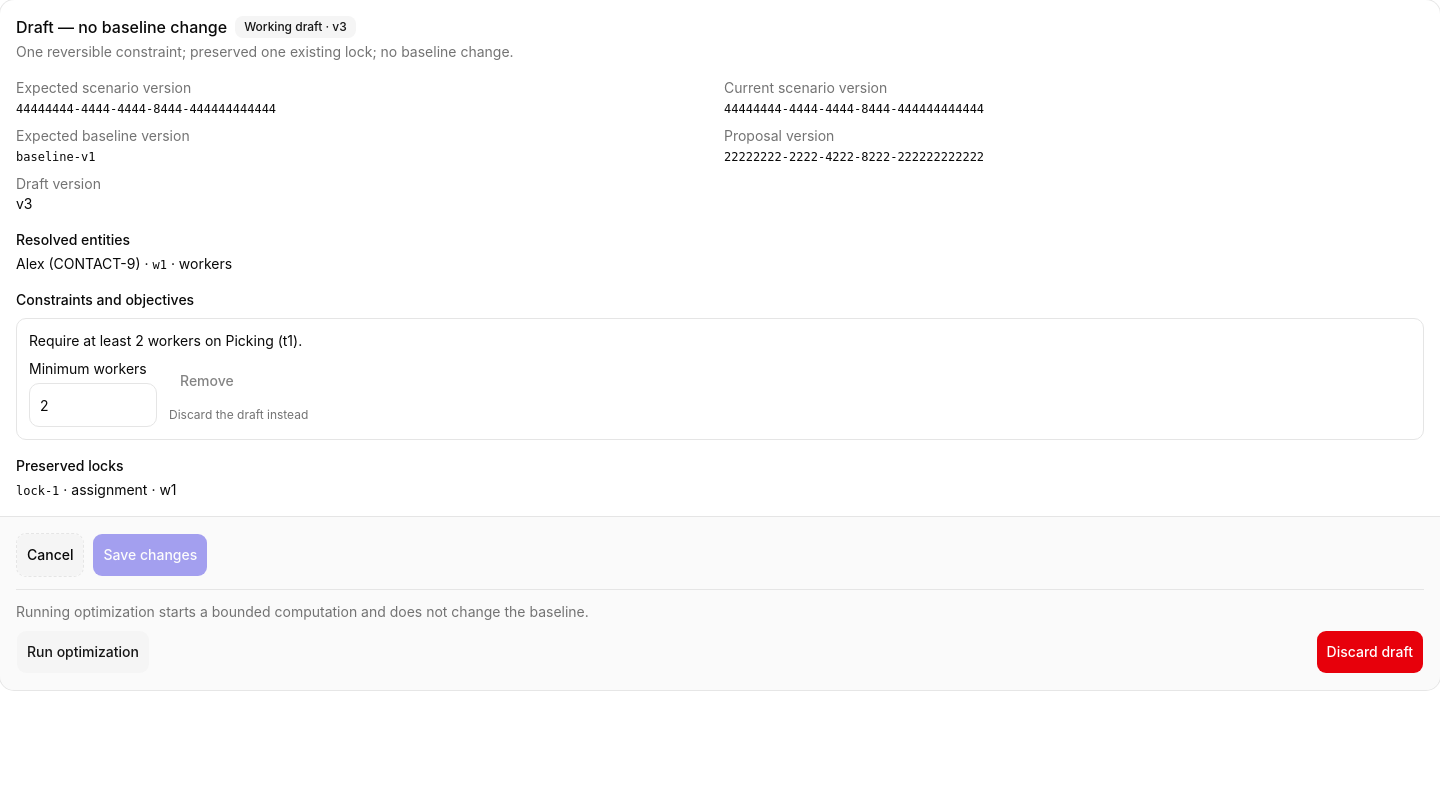
Test: DraftCard — the working draft › validation mirrors the resolver, and errors sit on the affected control › Minimum workers
The width and height of the screenshot is (1440, 810).
Replace the text in the number field labelled "Minimum workers" with "0": (93, 405) [29,383,157,427]
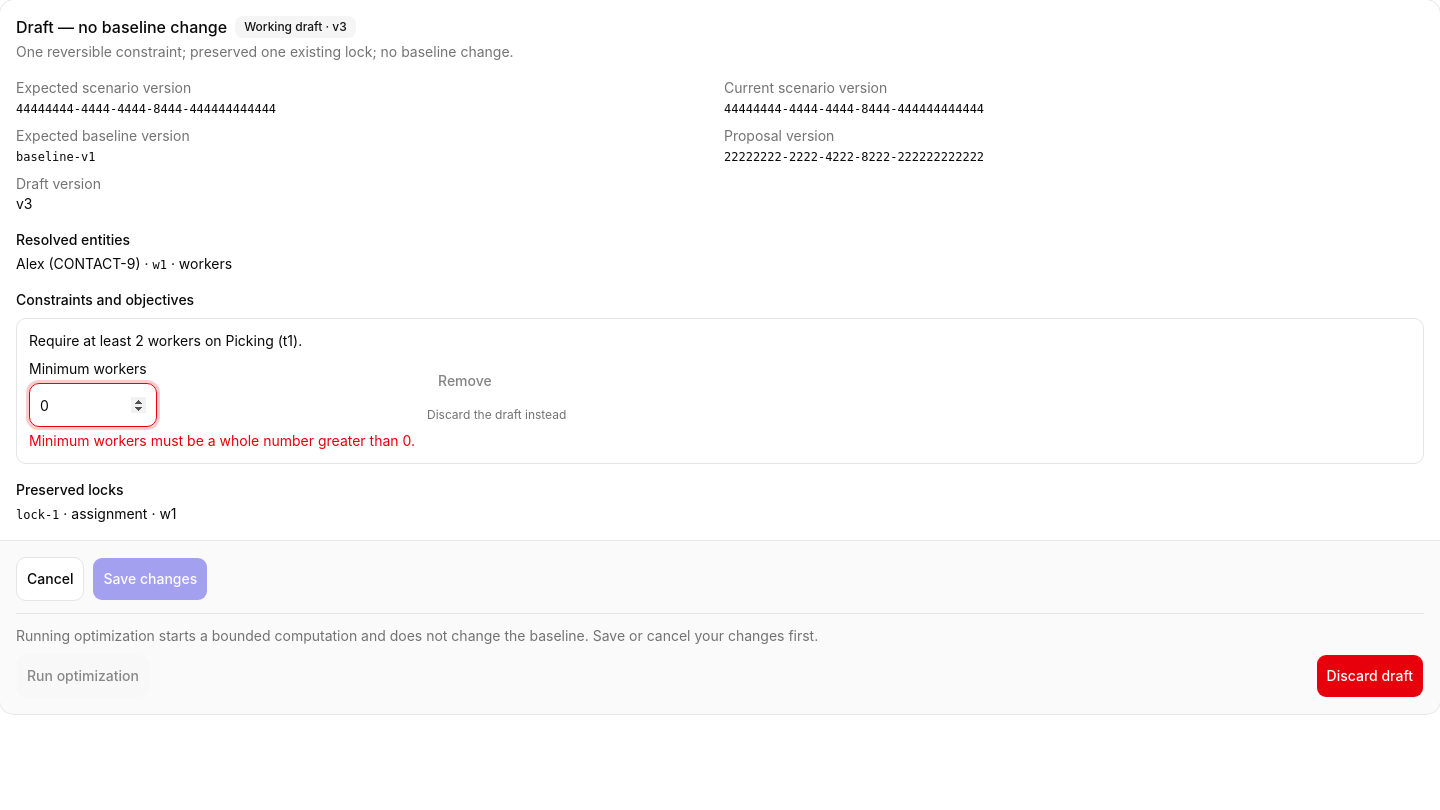
Expected: the button "Save changes" is disabled, [92,557,208,601]
Expected: the number field labelled "Minimum workers" is marked as invalid
Replace the text in the number field labelled "Minimum workers" with "1.5": (93, 405) [29,383,157,427]
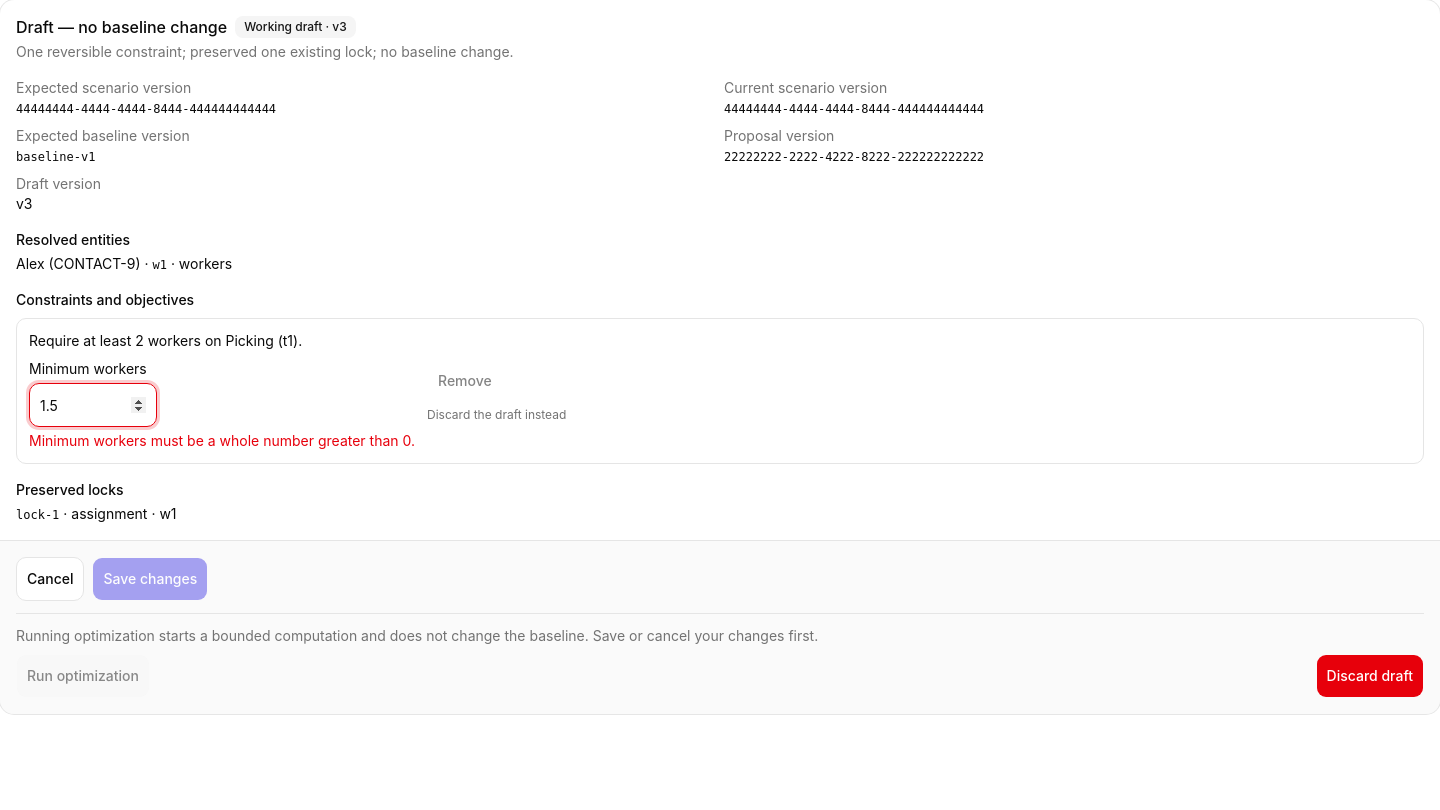
Expected: the button "Save changes" is disabled, [92,557,208,601]
Expected: the number field labelled "Minimum workers" is marked as invalid
Clear the number field labelled "Minimum workers": (93, 405) [29,383,157,427]
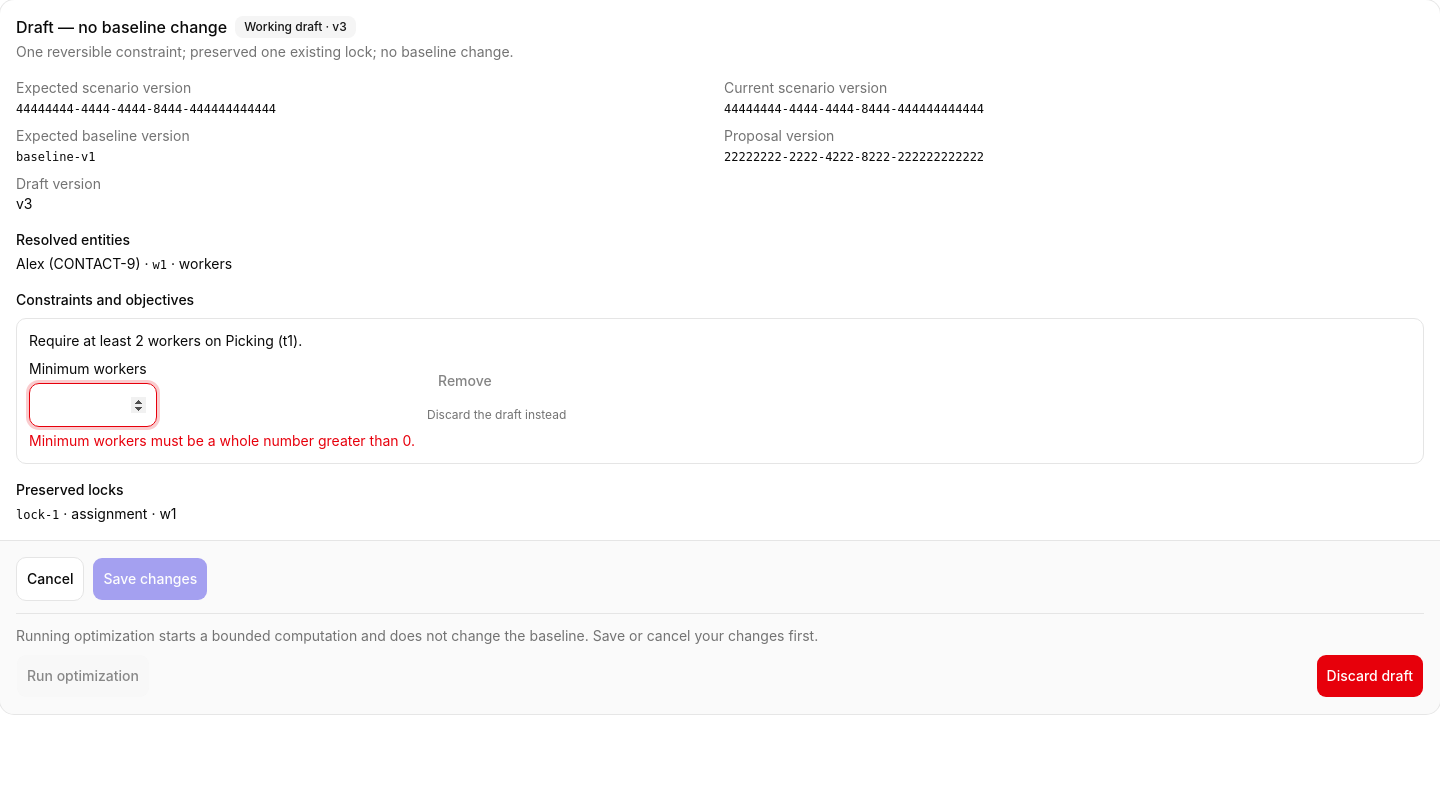
Expected: the button "Save changes" is disabled, [92,557,208,601]
Expected: the number field labelled "Minimum workers" is marked as invalid
In the number field labelled "Minimum workers": (93, 405) [29,383,157,427], type "3"
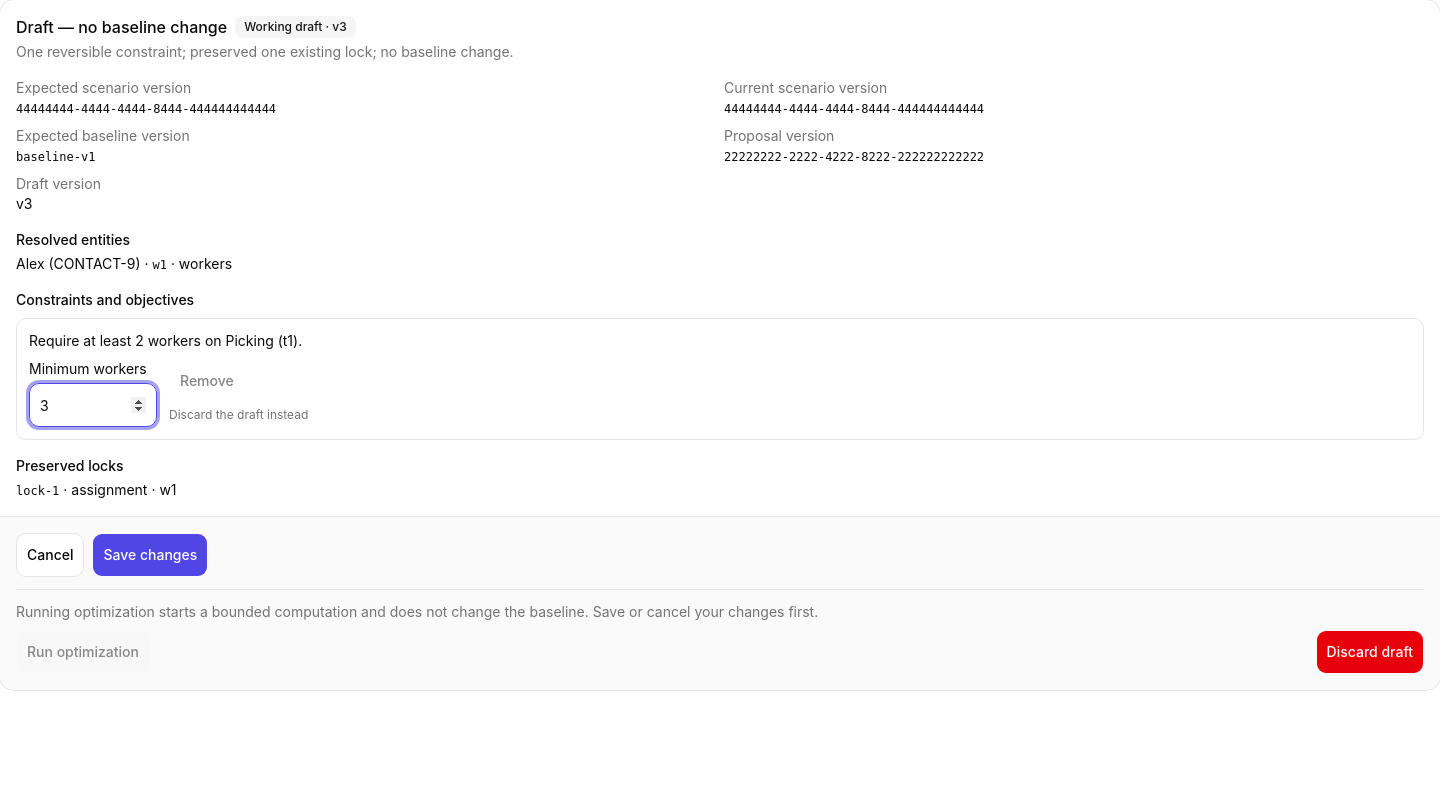
Expected: the button "Save changes" is enabled, [92,533,208,577]
